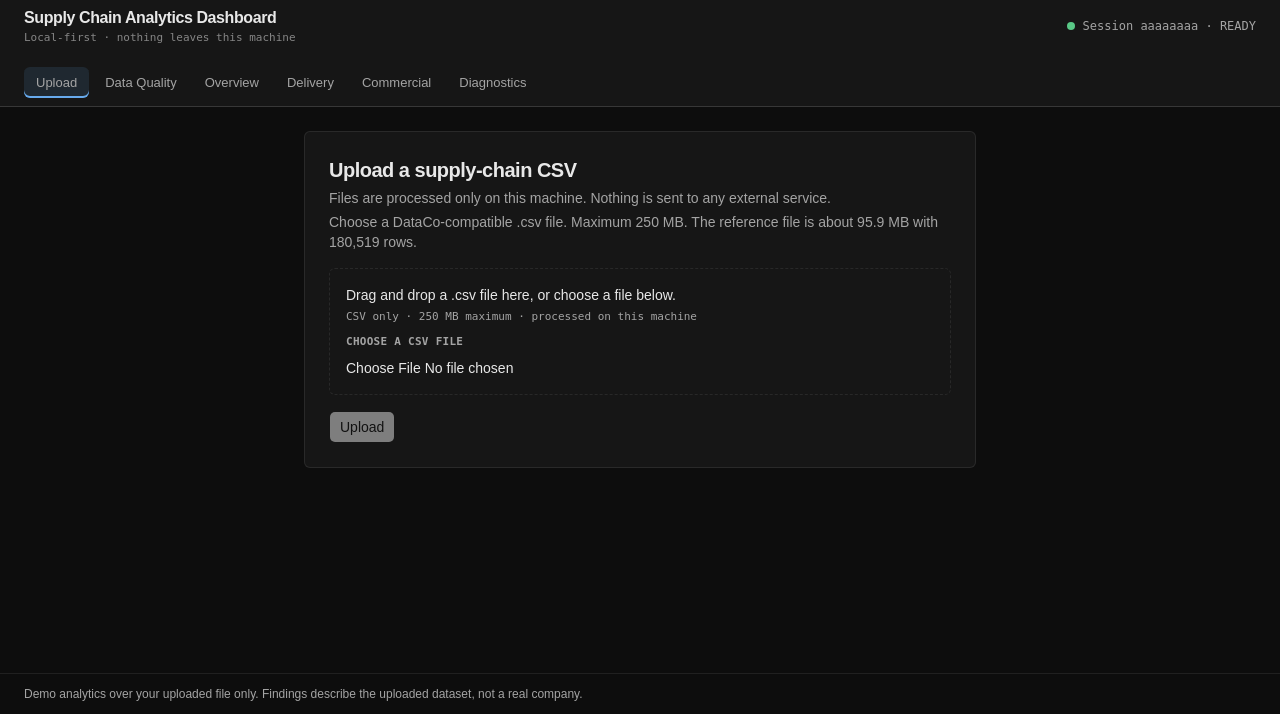
Phase-16B export experience › exposes exactly the four governed export kinds and no other artifact
Click the button "Data Quality" at x=141, y=82, box left=93, top=66, right=189, bottom=98
(page scrolled)
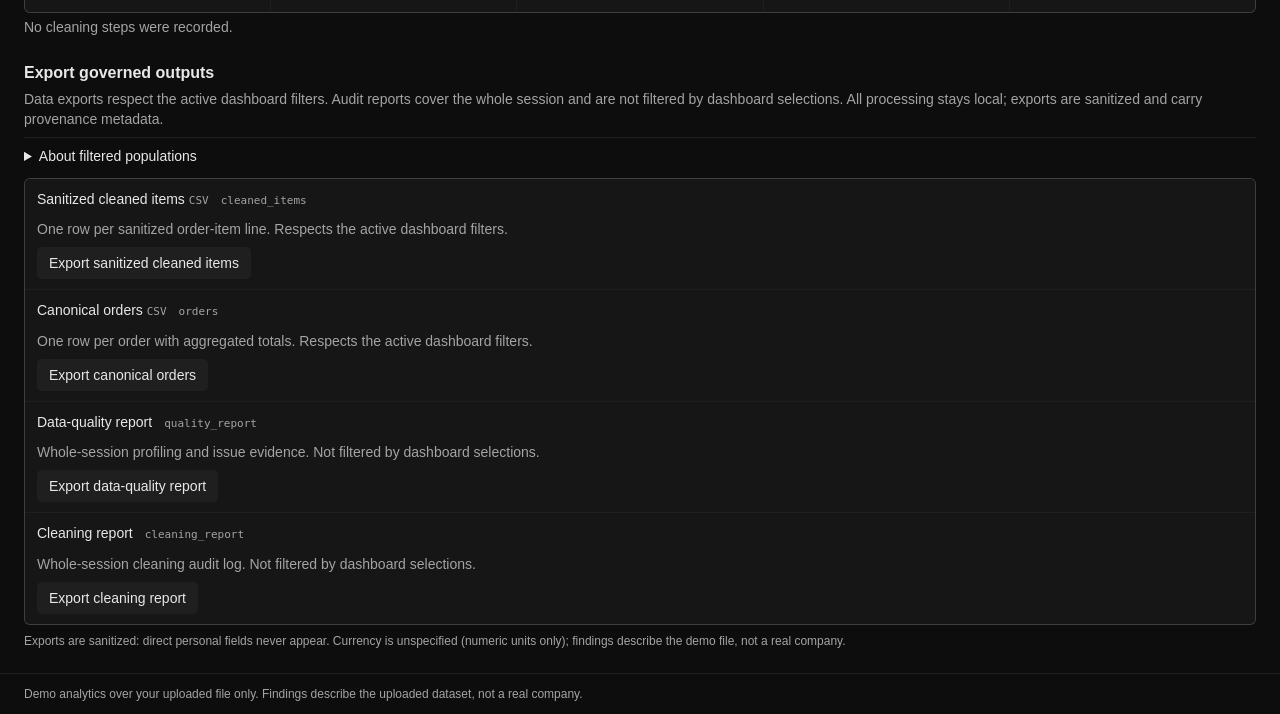
Check: the button "Export sanitized cleaned items" is shown, box left=37, top=247, right=251, bottom=279
Check: the button "Export canonical orders" is shown, box left=37, top=359, right=208, bottom=391
Check: the button "Export data-quality report" is shown, box left=37, top=470, right=218, bottom=502
